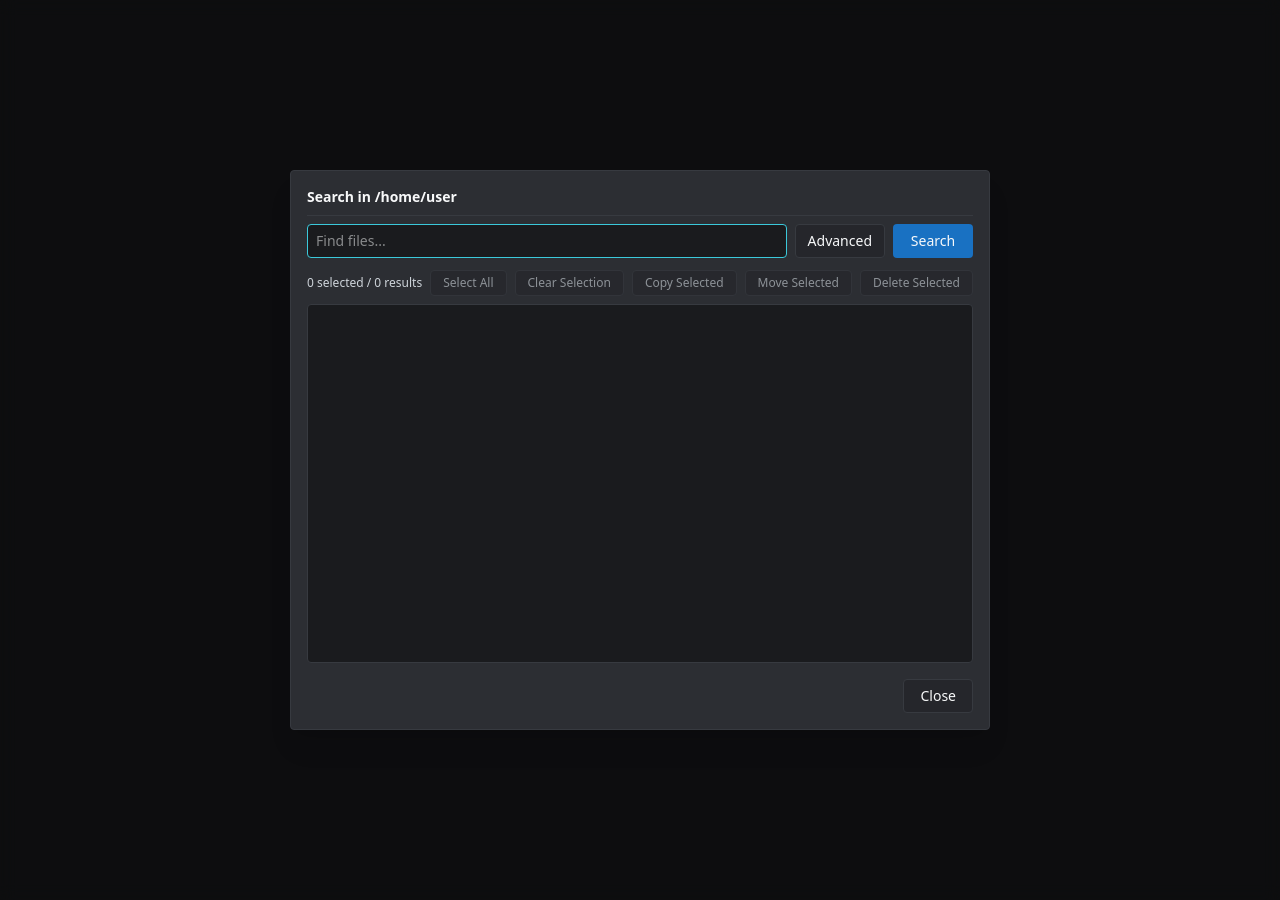
Test: SearchPreviewDialogs operations › does not copy selected search results when the target has conflicts
The width and height of the screenshot is (1280, 900).
In the field with placeholder "Find files...": [547, 241] box [307,224,787,258], type "notes"
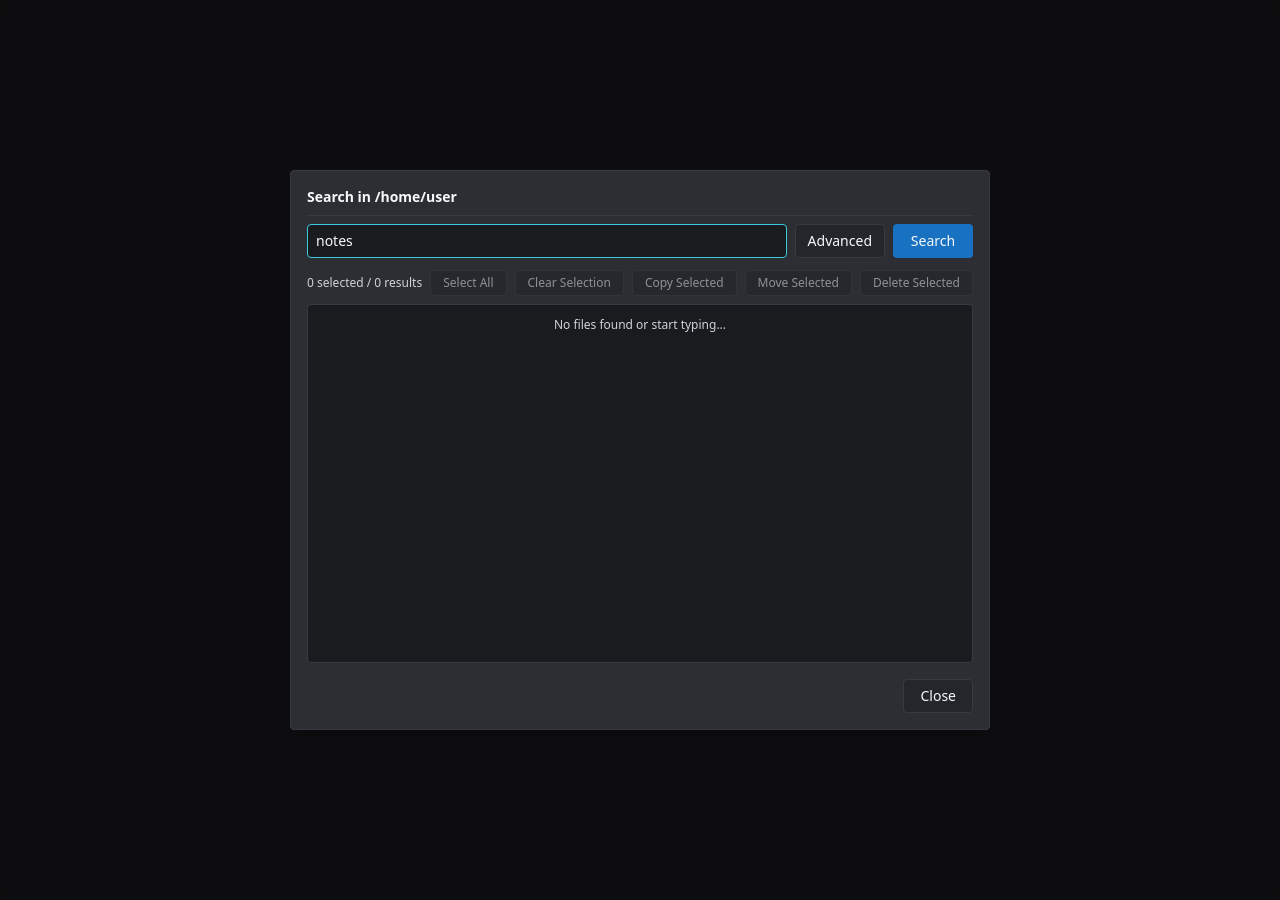
Click the button "Search": [933, 241] box [893,224,973,258]
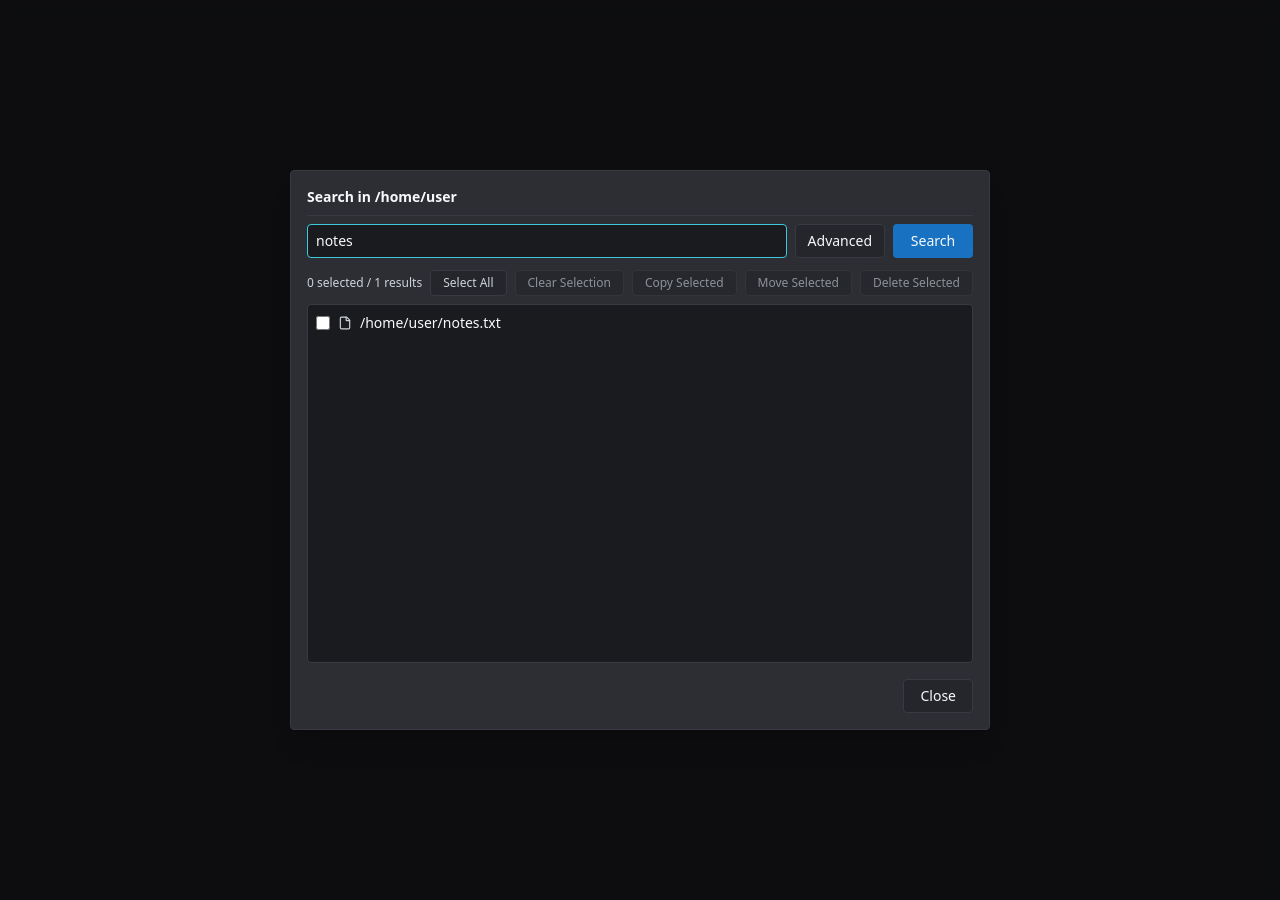
Now the text "/home/user/notes.txt" is shown, box [360,313,501,333]
Click the checkbox: [323, 323] box [316,316,330,330]
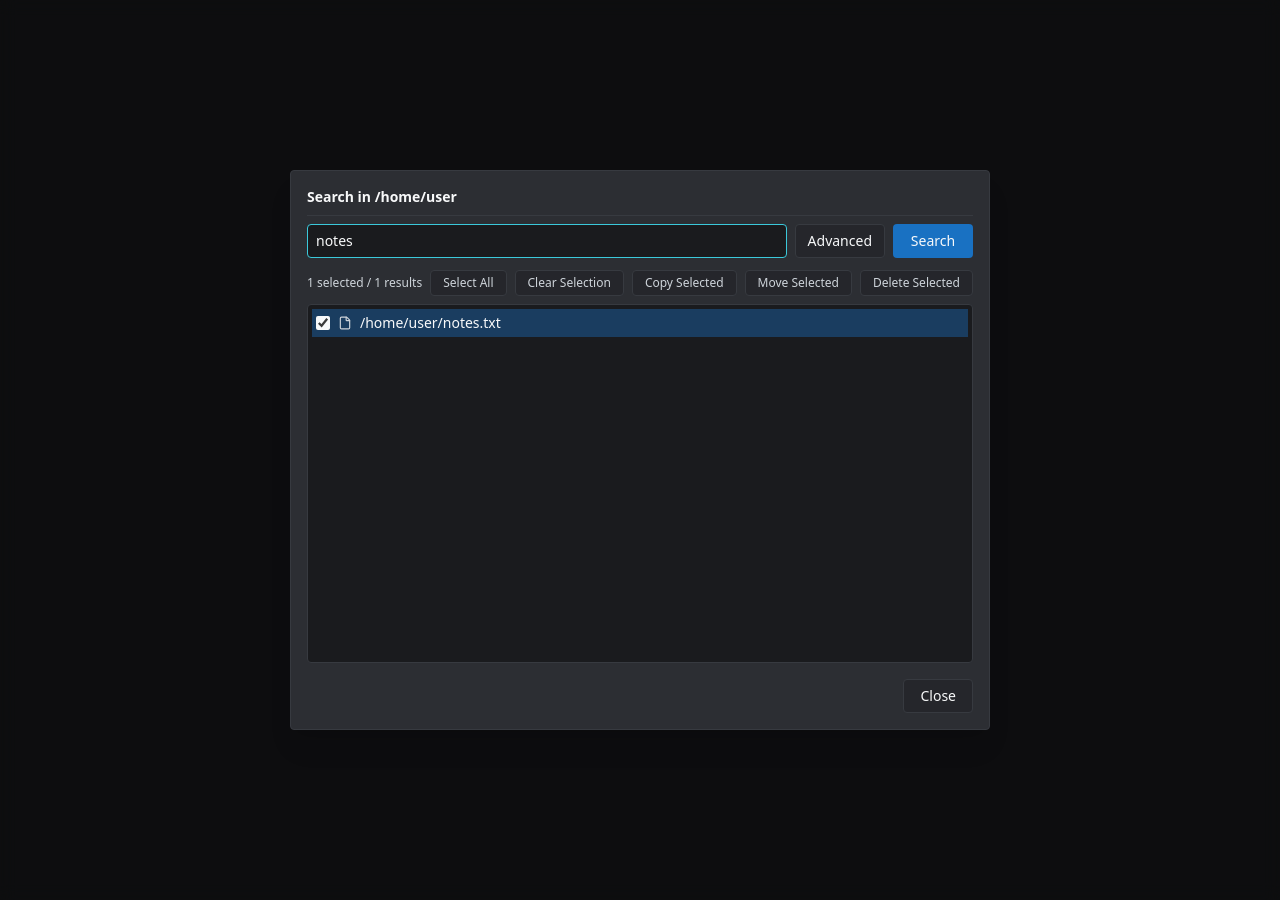
Click the button "Copy Selected": [684, 283] box [632,270,737,296]
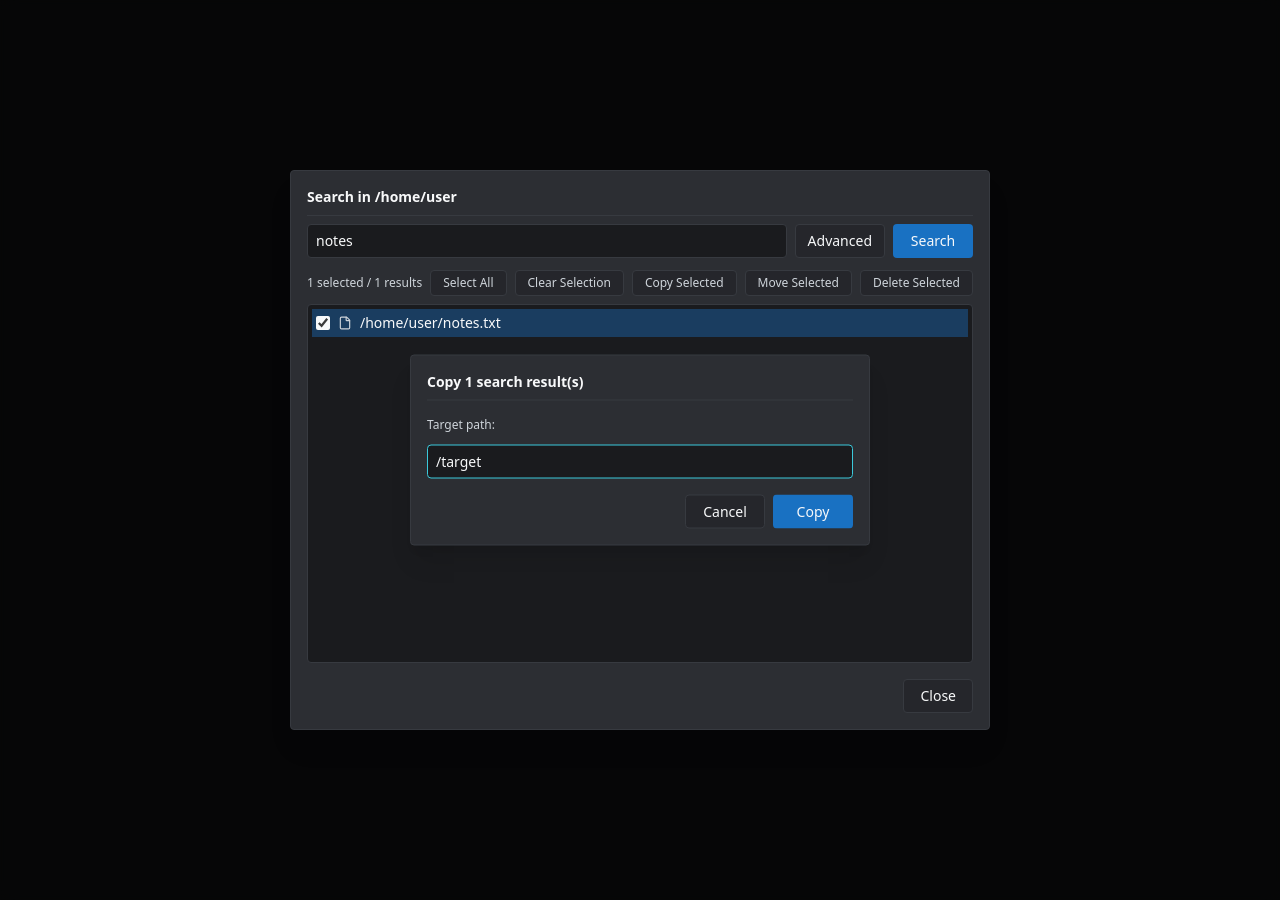
Now the field showing "/target" is shown, box [427,444,853,478]
Click the button "Copy": [813, 512] box [773,494,853,528]
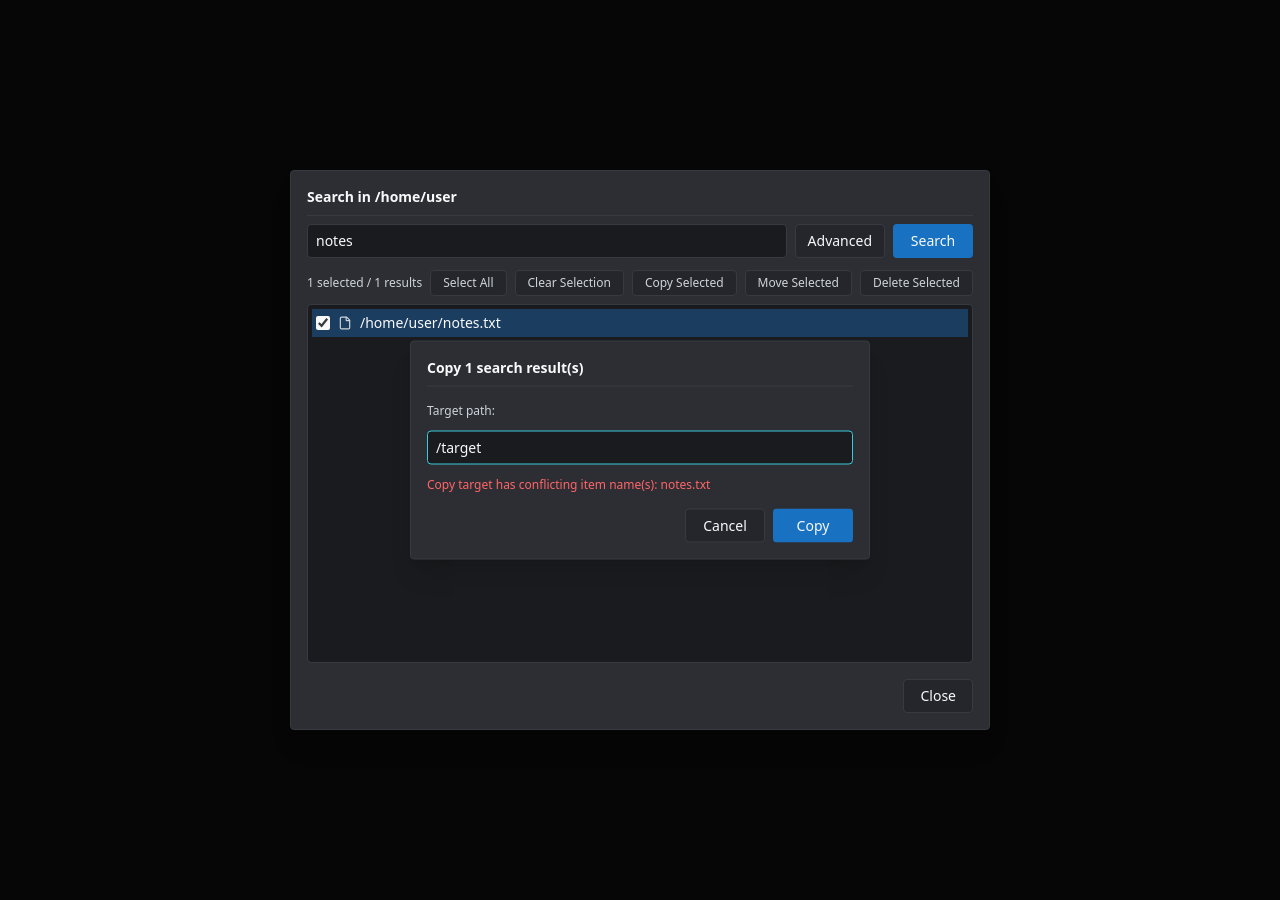
Now the text "Copy target has conflicting item name(s): notes.txt" is shown, box [427,476,710,492]
